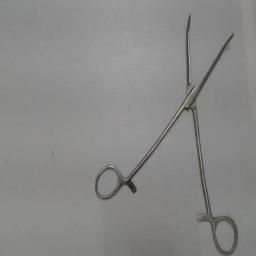Lahey Forceps: (91, 12, 241, 256)
